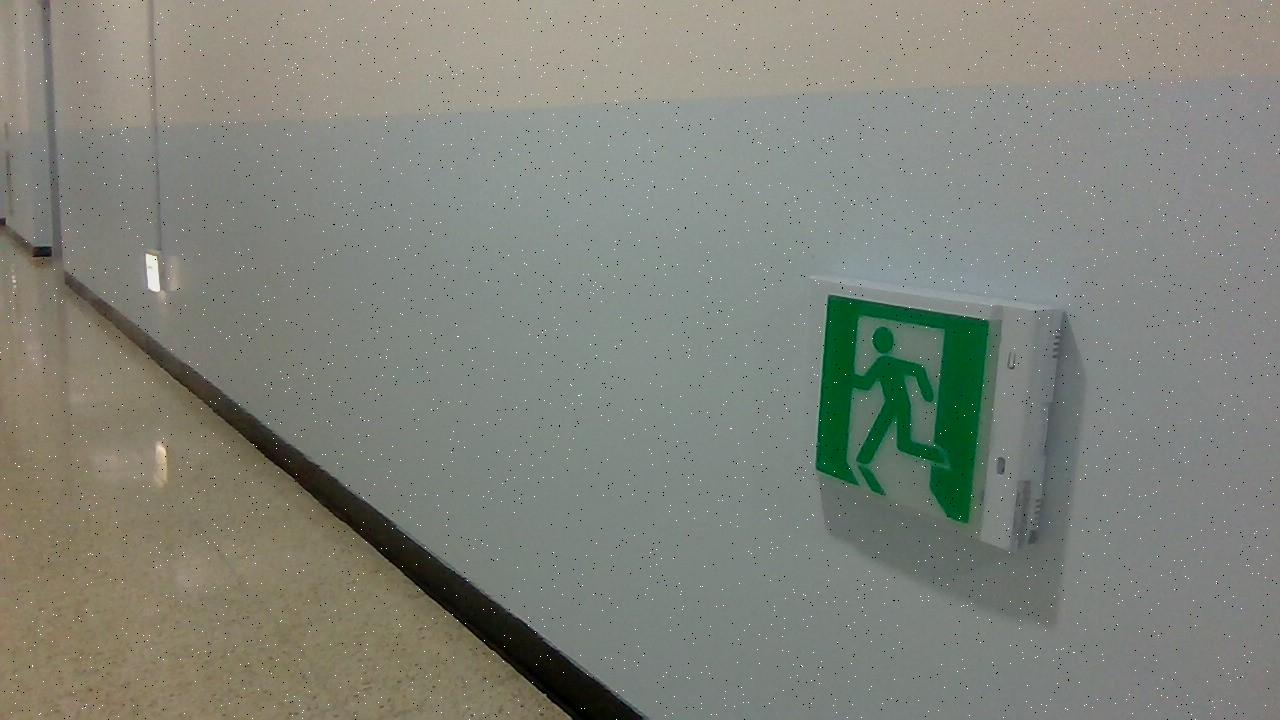emergency_exit: (812, 284, 1065, 553), (814, 293, 998, 526)
